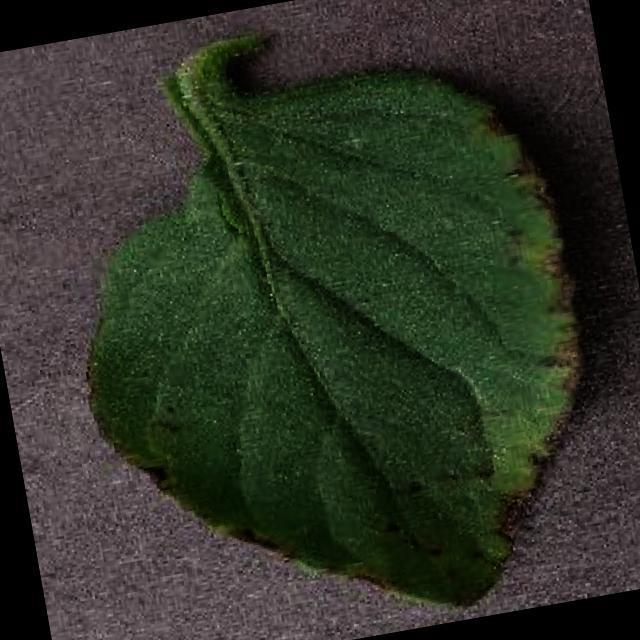Tomato bacterial spot leaf: (31, 36, 629, 640)
